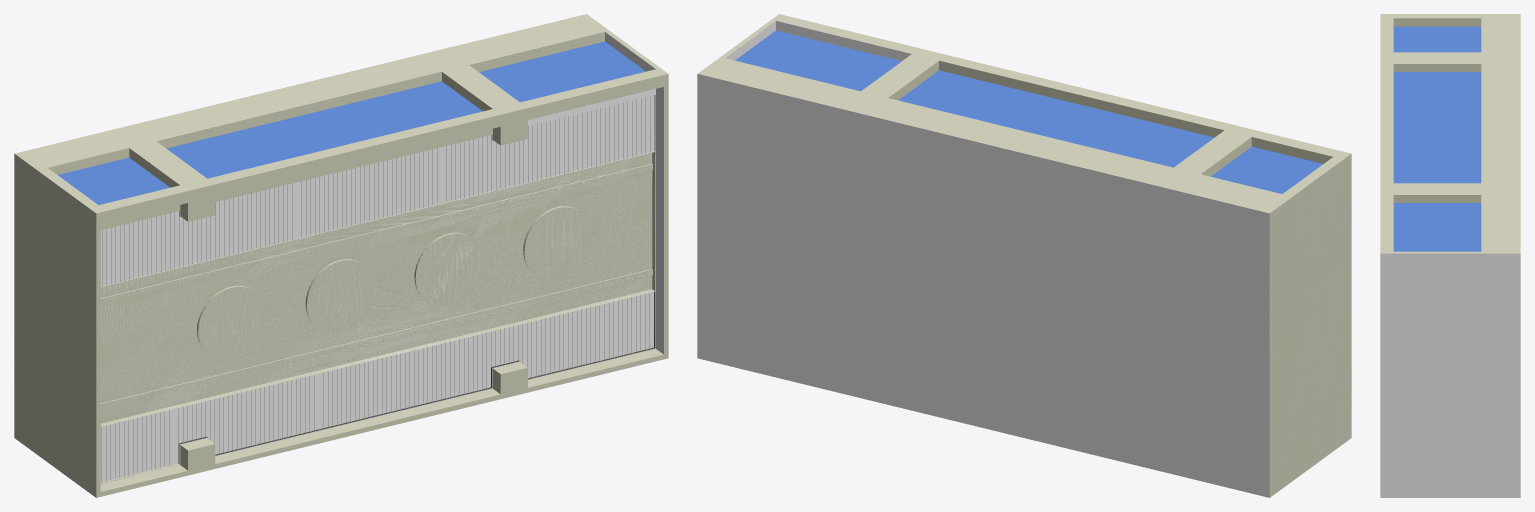
File: room14.obj
3 views of the same model, side by side, from view 1: azimuth 30°, elevation 25°; view 2: azimuth 150°, elevation 25°; view 3: azimuth 270°, elevation 25° (orthographic). The views are drawn at different scales.
Visible parts, largest first — view 1: room14; view 2: room14; view 3: room14.
Boxes of the visible parts, left/top/right/bottom form: room14: left=14, top=14, right=668, bottom=497; room14: left=697, top=14, right=1351, bottom=497; room14: left=1380, top=14, right=1520, bottom=497.
Size of the model in its own units: 505 by 240 by 125.
